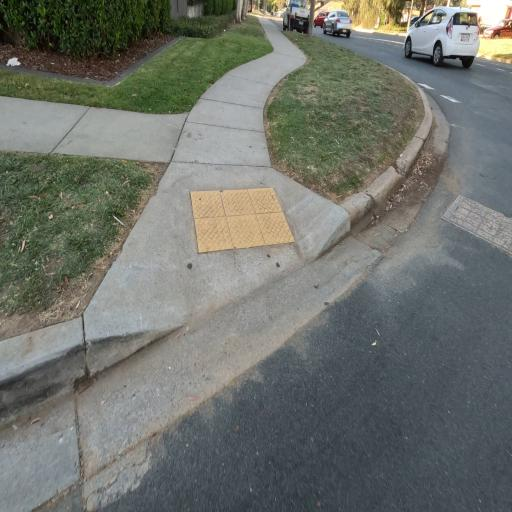kerb_cut: (81, 173, 344, 392)
